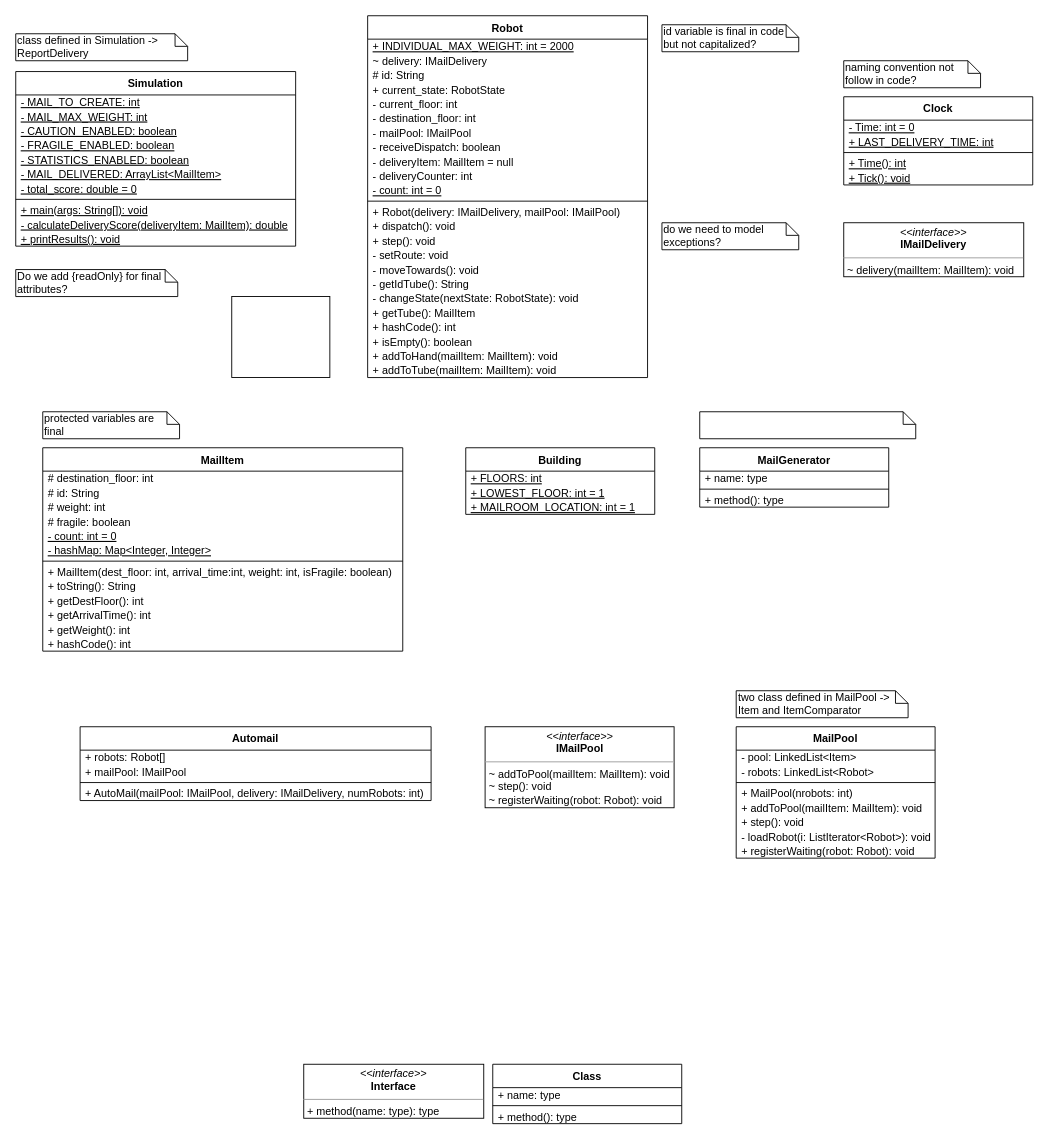
Some shapes in this 1049 by 1139 pixel diagram are drawn without their labels. Each missing label, with the centre of its shape:
"<<enumeration>> RobotState DELIVERING WAITING RETURNING" belongs at [280,337].
"not sure whether we will actually need to model MailGenerator class" belongs at [807,425].
